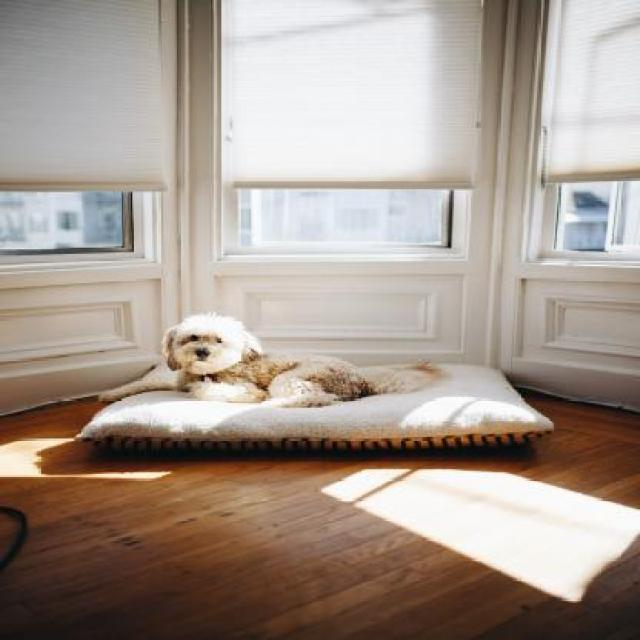Floor: (1, 386, 639, 640), (0, 513, 19, 560)
